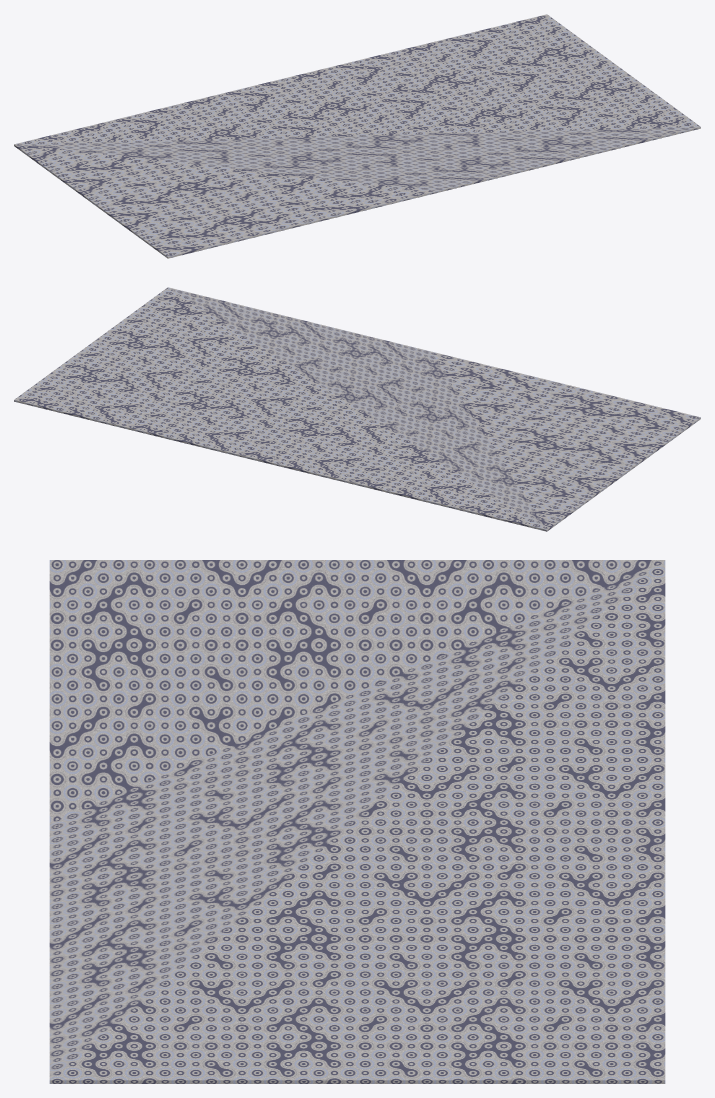
Rendered from ground3Parcels.glb.
The picture shows the model from 3 angles, top to bottom: view 1: azimuth 30°, elevation 25°; view 2: azimuth 150°, elevation 25°; view 3: azimuth 270°, elevation 25°; orthographic projection. The views are drawn at different scales.
Visible parts, largest first — view 1: ground_5Parcel; view 2: ground_5Parcel; view 3: ground_5Parcel.
Boxes of the visible parts, bbox=[...] form: ground_5Parcel: bbox=[14, 14, 700, 258]; ground_5Parcel: bbox=[14, 287, 700, 531]; ground_5Parcel: bbox=[49, 560, 665, 1083].
Size of what is drawn, in the model's own units: 32 by 0.1 by 16.
1 material, 1 textured.
